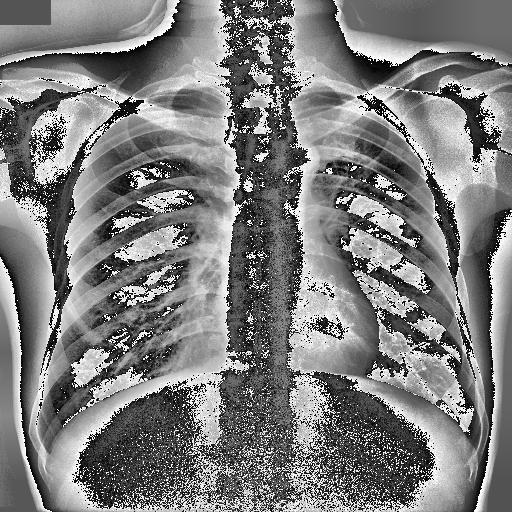13- Pulmonary fibrosis: (320, 138, 430, 238), (409, 182, 429, 193)
7- Lung Opacity: (397, 211, 427, 240), (404, 214, 430, 242), (400, 148, 417, 162)
9- Other lesion: (275, 94, 285, 156)
